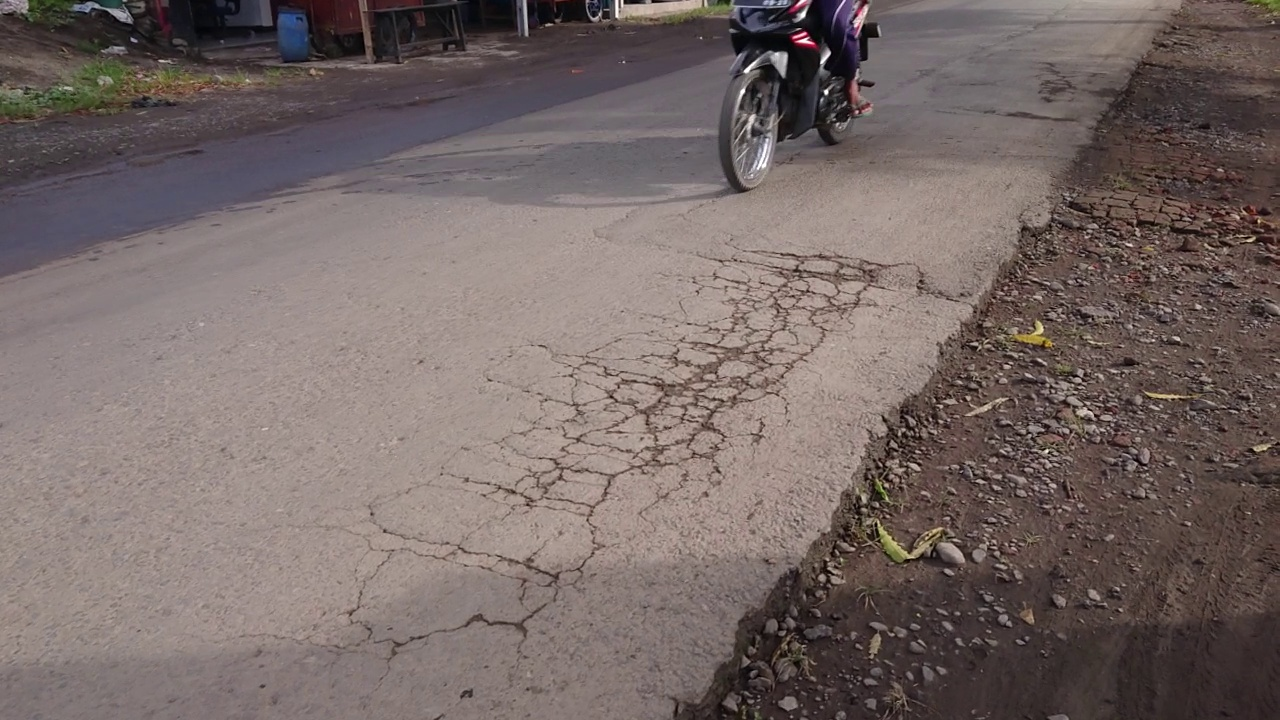Retak: (387, 240, 865, 655), (1033, 62, 1103, 117)
